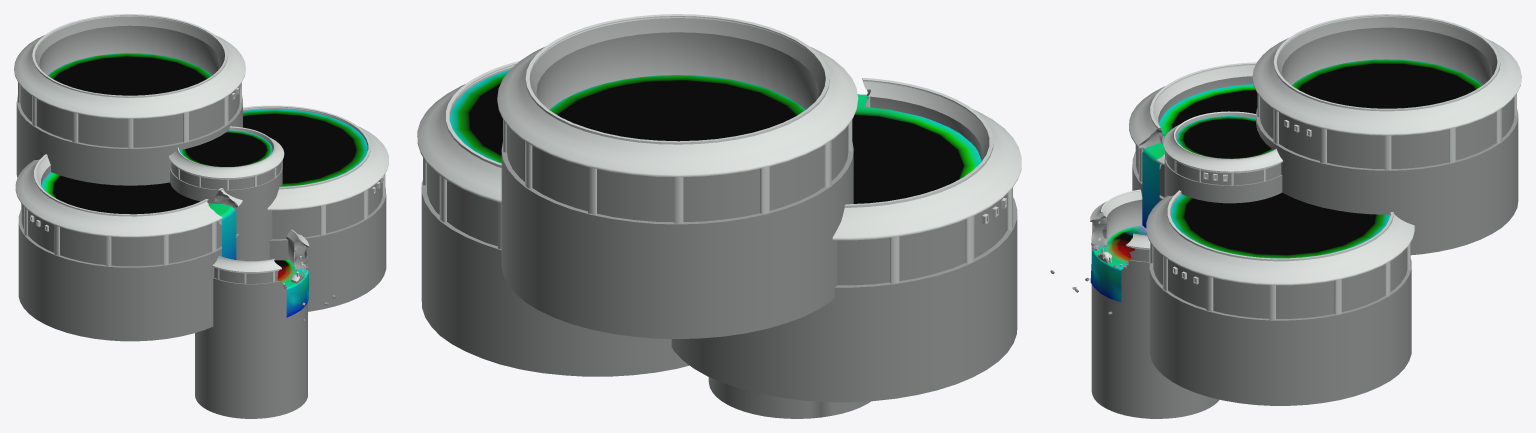
The picture shows the model from 3 angles, left to right: view 1: azimuth 30°, elevation 25°; view 2: azimuth 150°, elevation 25°; view 3: azimuth 270°, elevation 25°; orthographic projection. The views are drawn at different scales.
Visible parts, largest first — view 1: G:\FFXIV-MapTools\exports\e3f2\bg\ex2\02_est_e3\fld\e3f2\bgp (×8); view 2: G:\FFXIV-MapTools\exports\e3f2\bg\ex2\02_est_e3\fld\e3f2\bgp (×6); view 3: G:\FFXIV-MapTools\exports\e3f2\bg\ex2\02_est_e3\fld\e3f2\bgp (×8).
Part boxes in pixels (left/top/right/bottom): G:\FFXIV-MapTools\exports\e3f2\bg\ex2\02_est_e3\fld\e3f2\bgp (×8): left=14, top=14, right=388, bottom=418; G:\FFXIV-MapTools\exports\e3f2\bg\ex2\02_est_e3\fld\e3f2\bgp (×6): left=417, top=14, right=1021, bottom=418; G:\FFXIV-MapTools\exports\e3f2\bg\ex2\02_est_e3\fld\e3f2\bgp (×8): left=1050, top=14, right=1521, bottom=418.
Bounding box in the file's own units: 481 × 358 × 484.
